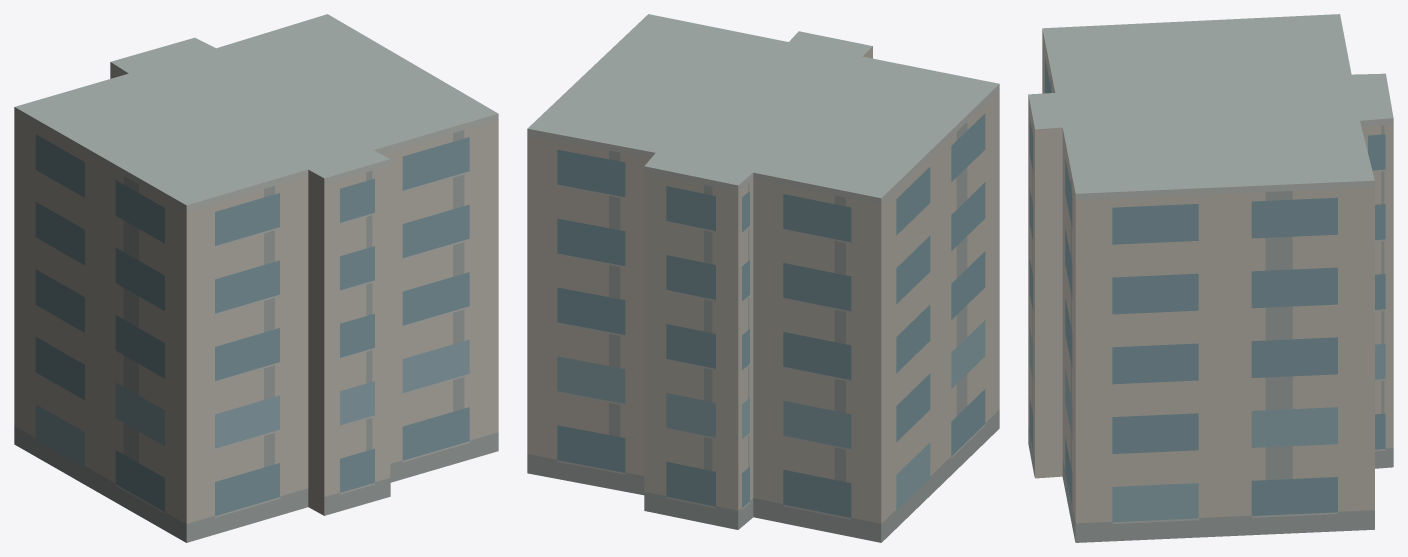
Rendered from survey-upis-32728405.glb.
3 renders of one model, left to right at view 1: azimuth 30°, elevation 25°; view 2: azimuth 150°, elevation 25°; view 3: azimuth 270°, elevation 25°, orthographic. The views are drawn at different scales.
Visible parts, largest first — view 1: survey-upis-32728405.tmp; view 2: survey-upis-32728405.tmp; view 3: survey-upis-32728405.tmp.
Part boxes in pixels (left/top/right/bottom): survey-upis-32728405.tmp: left=14, top=14, right=498, bottom=542; survey-upis-32728405.tmp: left=527, top=14, right=999, bottom=542; survey-upis-32728405.tmp: left=1028, top=14, right=1393, bottom=542.
Size of the model in its own units: 14.26 by 12.9 by 12.24.
